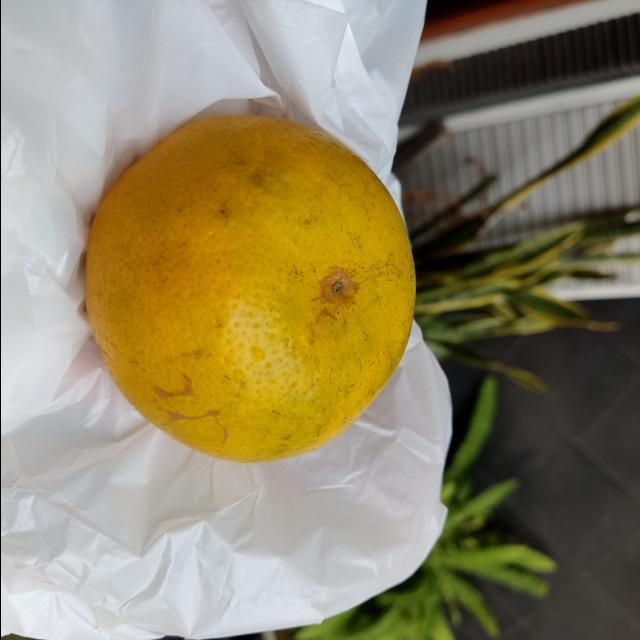agrume: (75, 102, 417, 465)
